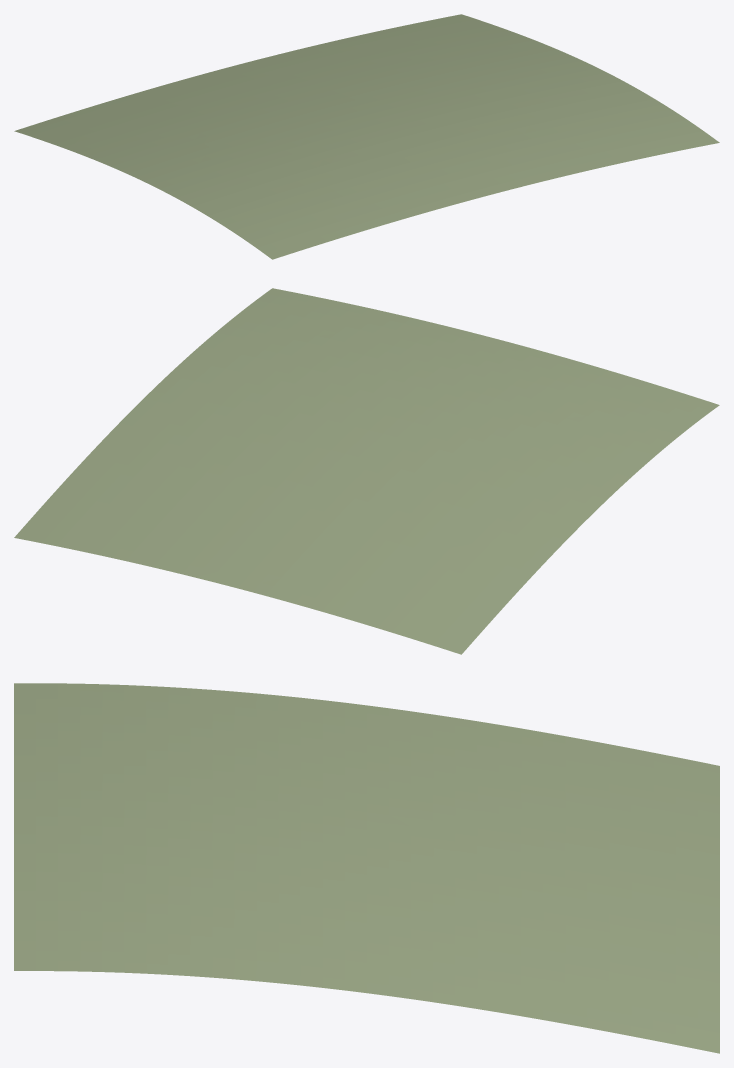
The model's file is valley-6-0.glb.
3 views of the same model, one above another, from view 1: azimuth 30°, elevation 25°; view 2: azimuth 150°, elevation 25°; view 3: azimuth 270°, elevation 25° (orthographic). The views are drawn at different scales.
Visible parts, largest first — view 1: valley-6-0; view 2: valley-6-0; view 3: valley-6-0.
Part boxes in pixels (<box>): valley-6-0: <box>14,14,719,259</box>; valley-6-0: <box>14,288,719,654</box>; valley-6-0: <box>14,683,719,1053</box>.
Size of the model in its own units: 256 by 39.8 by 256.
